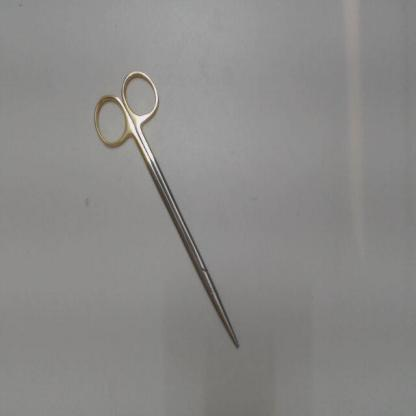7 Metzenbaum Scissors: (88, 65, 245, 356)
